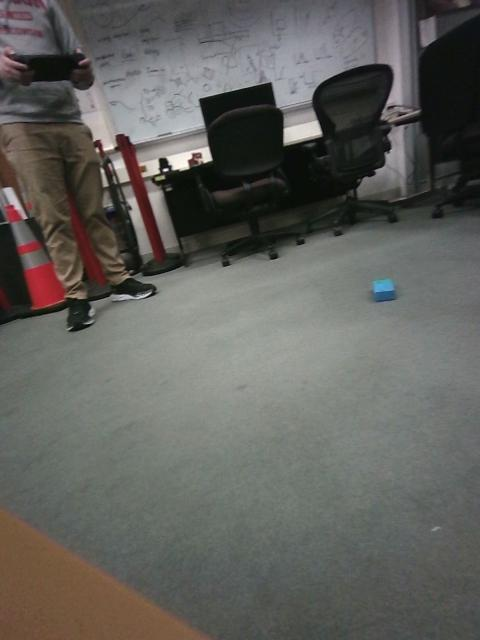block: (225, 338, 288, 391)
